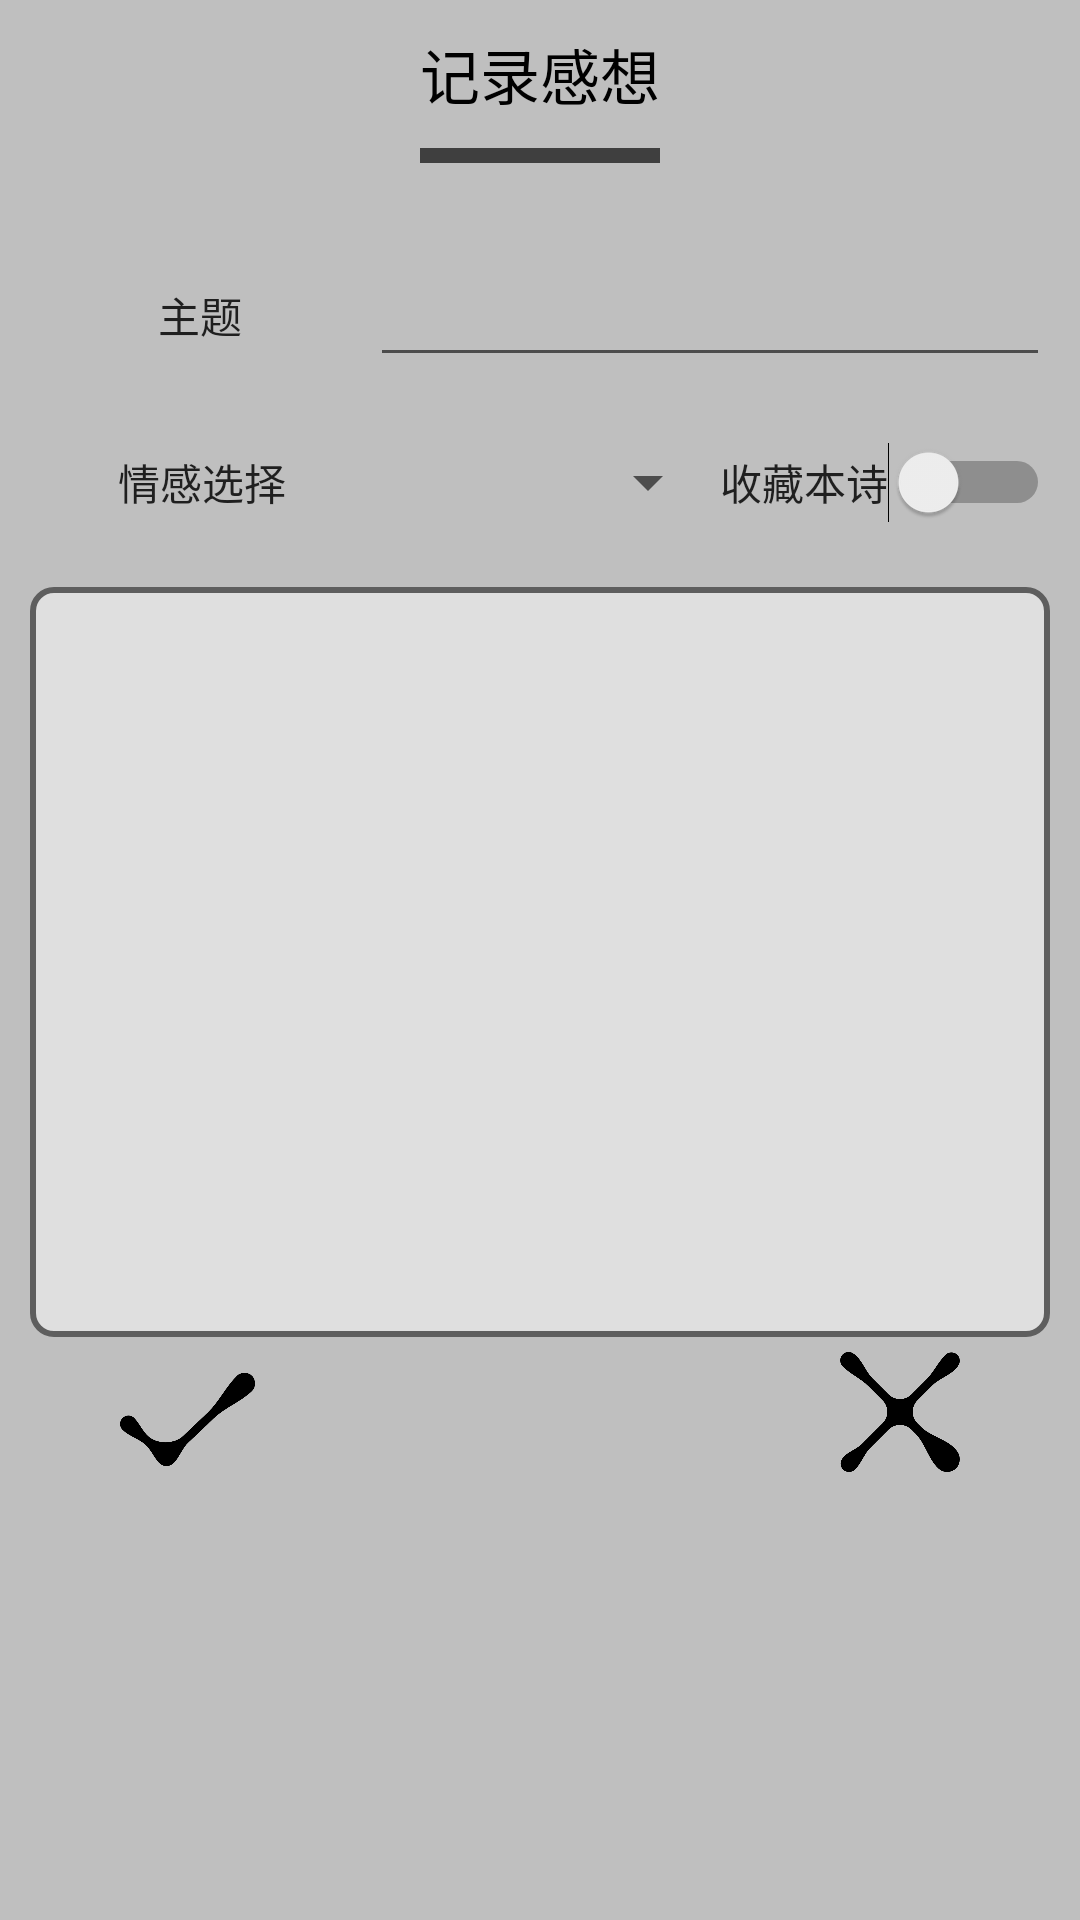

Icons on this 1080 × 1920 Android screen, each with its box as [left=x1, top=y1, right=x2, bottom=y2]:
cancel: [left=840, top=1352, right=960, bottom=1472]
comfirm: [left=120, top=1373, right=255, bottom=1466]
